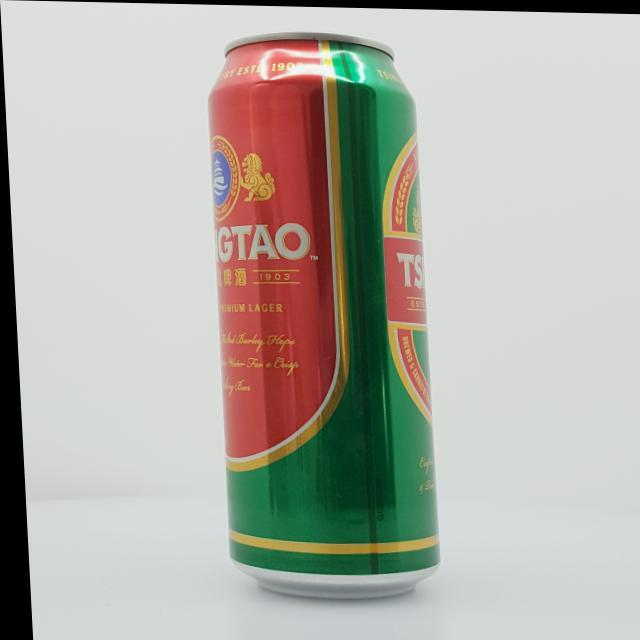beer-can: (202, 28, 436, 599)
